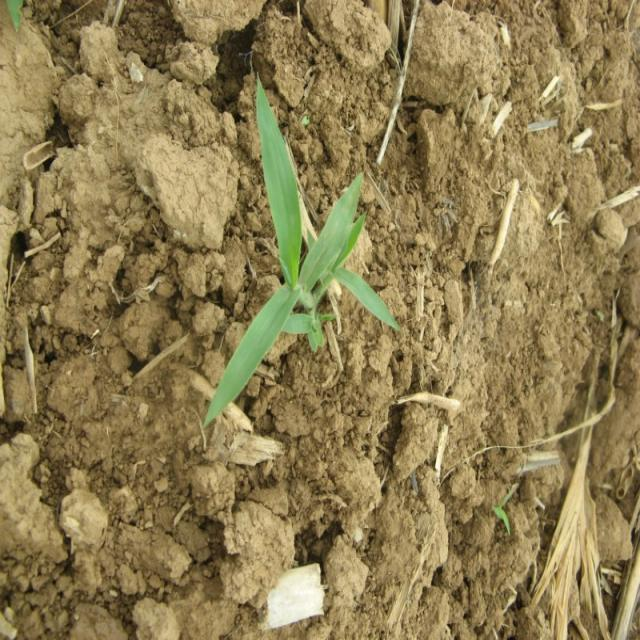bg: (204, 77, 402, 428)
